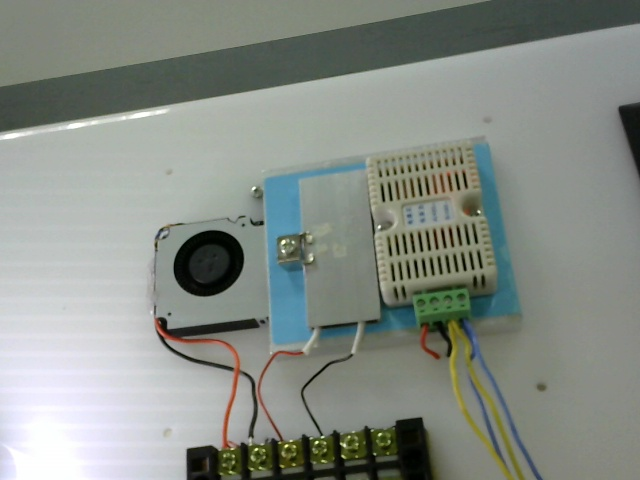fan: (134, 210, 267, 354)
heater: (295, 171, 380, 345)
termperature: (364, 153, 502, 323)
